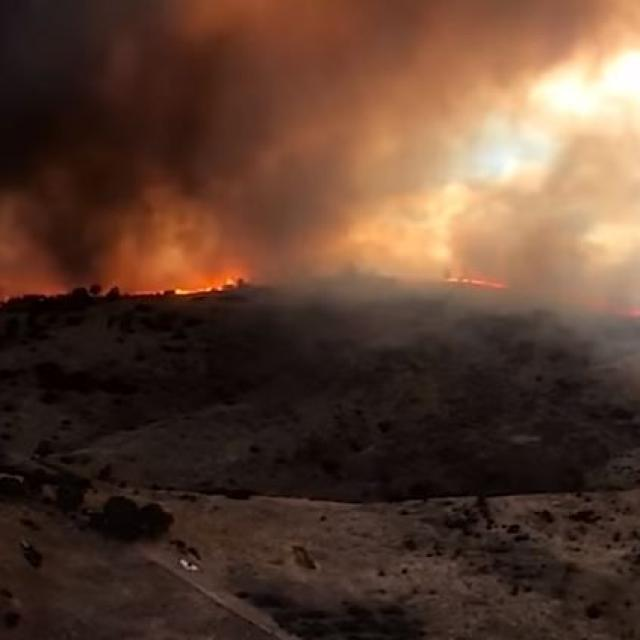Smoke: (0, 0, 634, 301)
